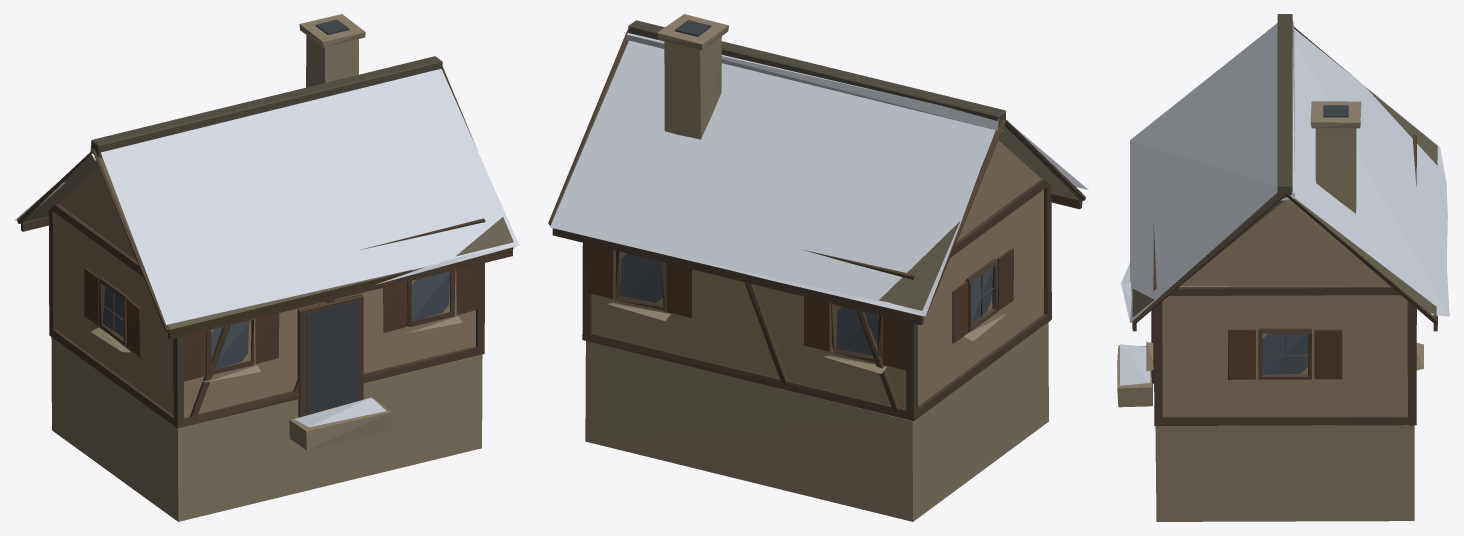
Rendered from house-snow-lod1.glb.
3 renders of one model, left to right at view 1: azimuth 30°, elevation 25°; view 2: azimuth 150°, elevation 25°; view 3: azimuth 270°, elevation 25°, orthographic. The views are drawn at different scales.
Size of the model in its own units: 8.2 by 8.26 by 6.54.
